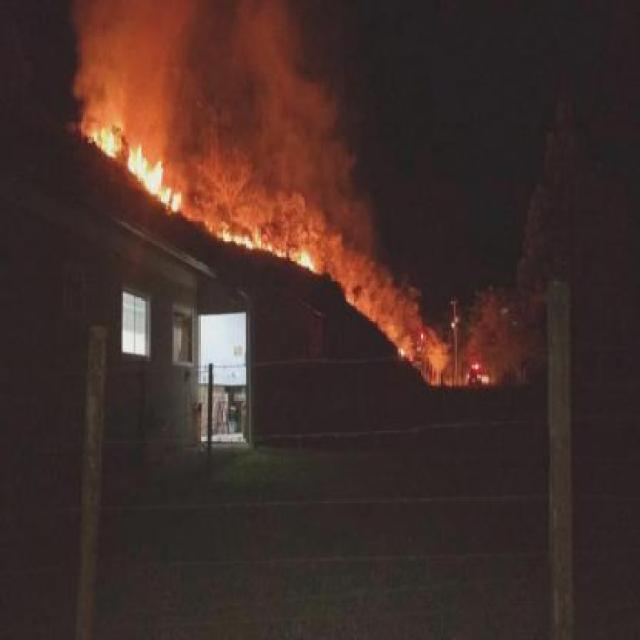Fire: (130, 146, 179, 217), (223, 228, 288, 260), (90, 118, 122, 160), (296, 248, 316, 274)
